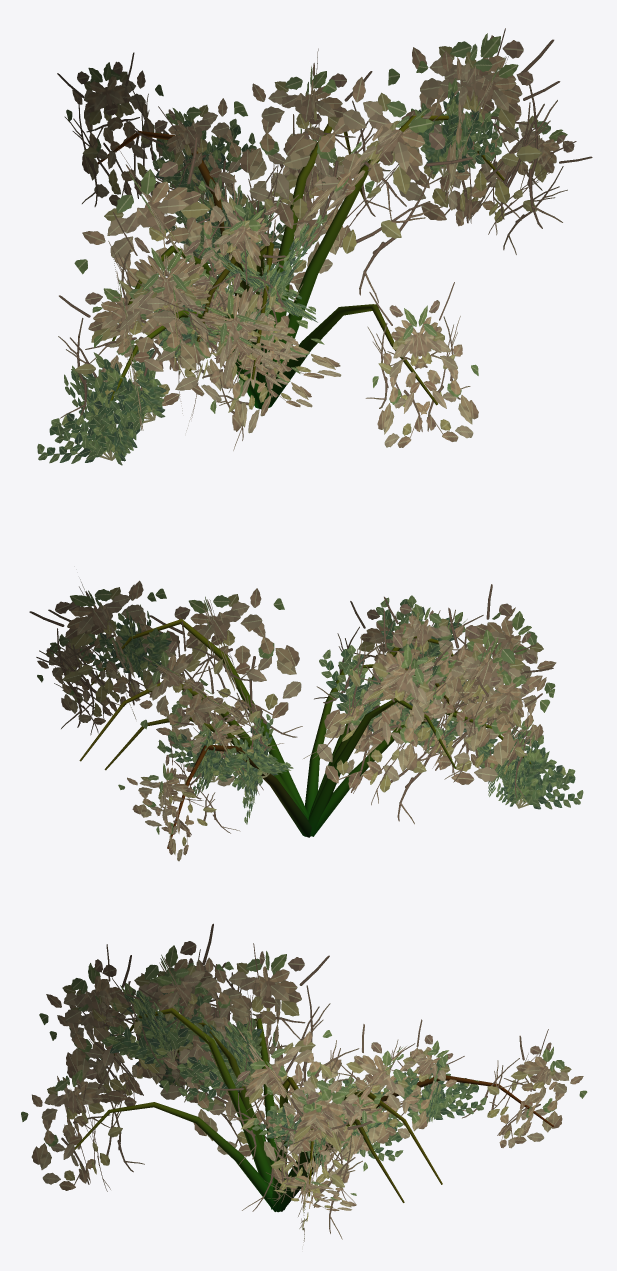
File: SM_Bush_Bramble_Dry.fbx
3 renders of one model, top to bottom at view 1: azimuth 30°, elevation 25°; view 2: azimuth 150°, elevation 25°; view 3: azimuth 270°, elevation 25°, orthographic. The views are drawn at different scales.
Visible parts, largest first — view 1: SM_Bush_Bramble_Dry; view 2: SM_Bush_Bramble_Dry; view 3: SM_Bush_Bramble_Dry.
Part boxes in pixels (x1=…): SM_Bush_Bramble_Dry: x1=37, y1=28, x2=592, y2=465; SM_Bush_Bramble_Dry: x1=29, y1=579, x2=583, y2=861; SM_Bush_Bramble_Dry: x1=21, y1=923, x2=587, y2=1242.
Size of the model in its own units: 2.46 by 1.17 by 2.43.
Materials: 2 (1 with a texture image).
